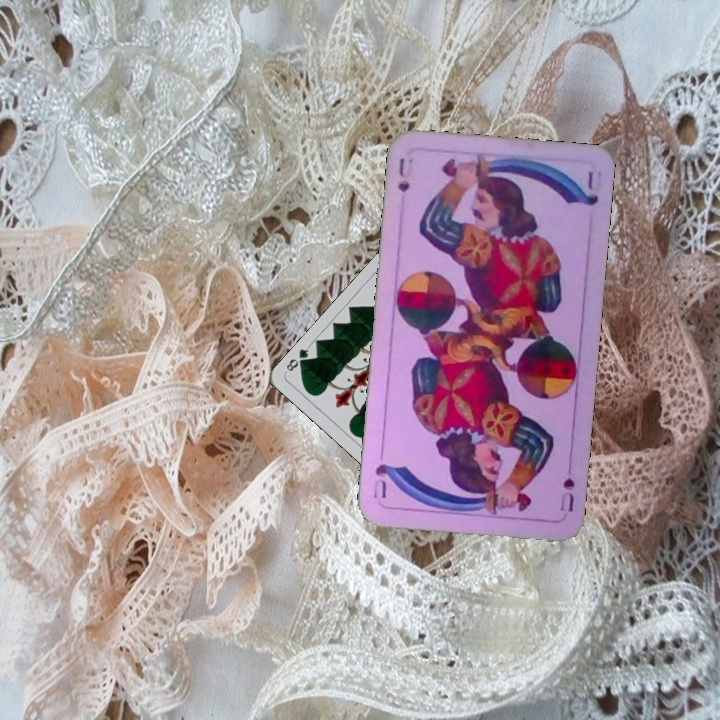SU: (556, 458, 577, 515), (394, 153, 412, 195)
